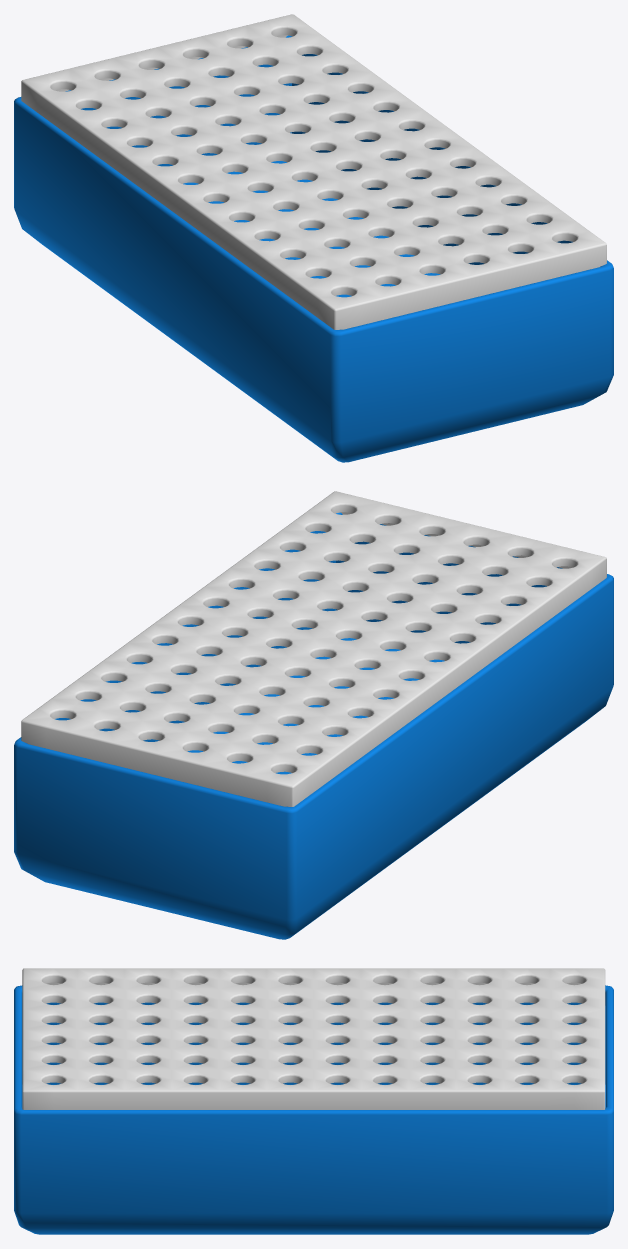
File: MicroPipeteBox.002.fbx
3 renders of one model, top to bottom at view 1: azimuth 30°, elevation 25°; view 2: azimuth 150°, elevation 25°; view 3: azimuth 270°, elevation 25°, orthographic. The views are drawn at different scales.
Parts seen in each view (by area): view 1: GEO_MicroPipeteBox_Holder, GEO_MicroPipeteBox_Bottom, GEO_MicroPipeteBox_Interior; view 2: GEO_MicroPipeteBox_Holder, GEO_MicroPipeteBox_Bottom, GEO_MicroPipeteBox_Interior; view 3: GEO_MicroPipeteBox_Holder, GEO_MicroPipeteBox_Bottom, GEO_MicroPipeteBox_Interior.
Boxes of the visible parts, x1,y1,x2,y2 form: GEO_MicroPipeteBox_Holder: (21,14,606,329); GEO_MicroPipeteBox_Bottom: (14,35,613,462); GEO_MicroPipeteBox_Interior: (81,64,528,297); GEO_MicroPipeteBox_Holder: (21,491,606,806); GEO_MicroPipeteBox_Bottom: (14,512,613,939); GEO_MicroPipeteBox_Interior: (99,541,546,774); GEO_MicroPipeteBox_Holder: (22,968,605,1109); GEO_MicroPipeteBox_Bottom: (14,985,613,1234); GEO_MicroPipeteBox_Interior: (22,1003,605,1107).
Size of the model in its own units: 160 by 89.77 by 317.
